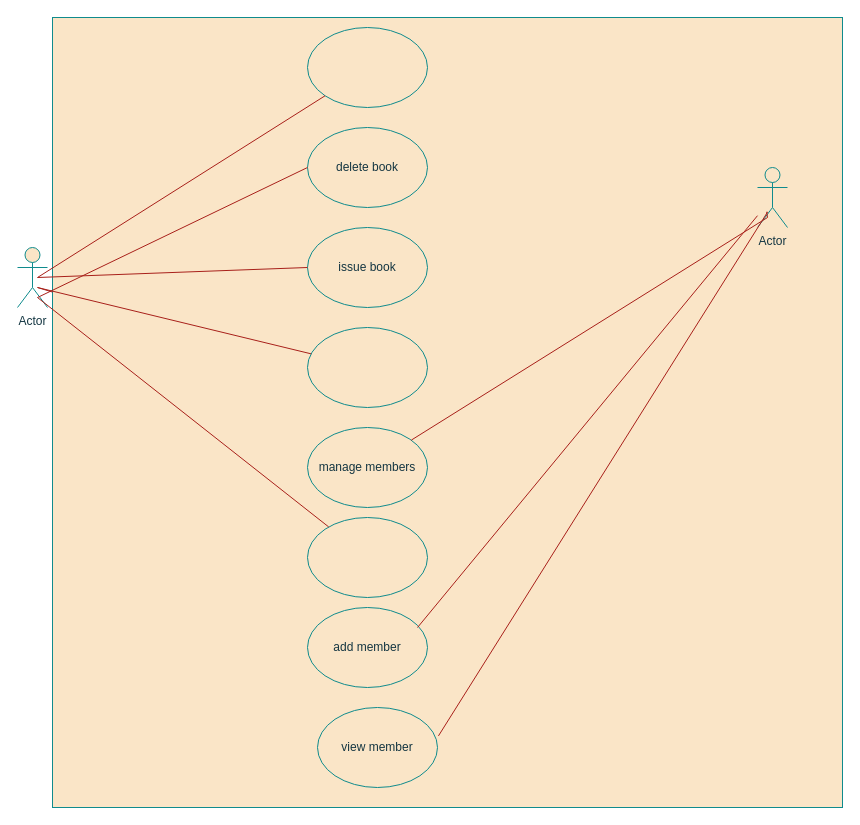
This 860x825 diagram has some shape labels left out. The centre of each missing label's shape, as x and y in pixels:
add book: point (367, 67)
issue details: point (367, 367)
search book: point (367, 557)
